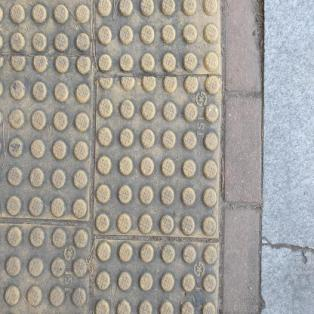Podoctatil: (0, 0, 231, 313)
